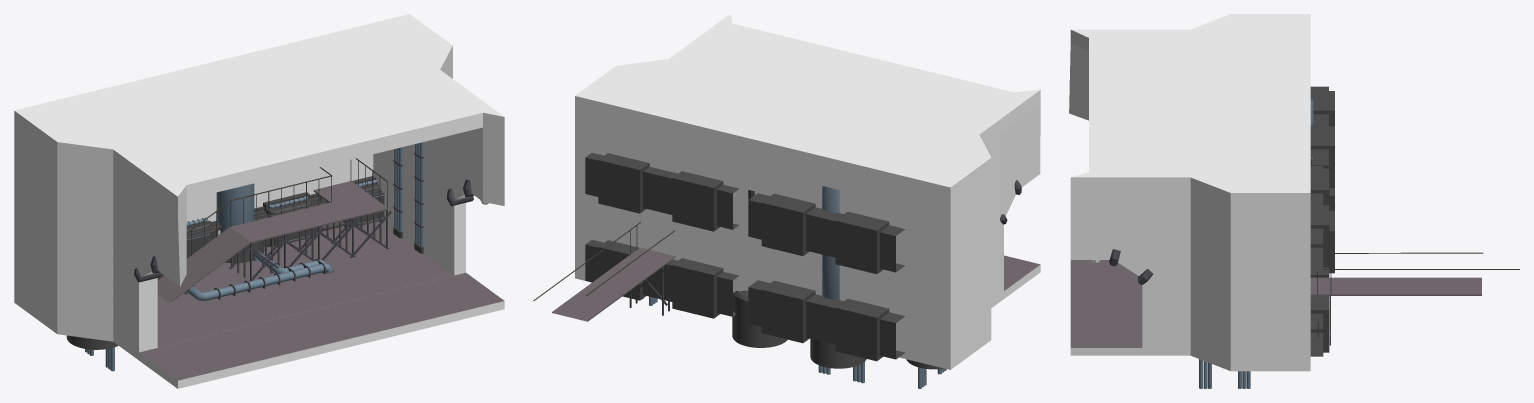
Rendered from Hub2.fbx.
The picture shows the model from 3 angles, left to right: view 1: azimuth 30°, elevation 25°; view 2: azimuth 150°, elevation 25°; view 3: azimuth 270°, elevation 25°; orthographic projection. The views are drawn at different scales.
Parts seen in each view (by area): view 1: Cube.002, Cube.034, Cube.025, Cylinder.013, Cylinder.028, Cylinder.023, Cube.033, Cube.016, Cube.006, Cylinder.033, Cylinder.004; view 2: Cube.002, Cube.006, Cube.025, Cube.034, Cylinder.029, Cylinder.026, Cylinder.027; view 3: Cube.002, Cube.025, Cube.034, Cube.006, Cylinder.013, Cylinder.015.
Part boxes in pixels (x1,y1,x2,y2): Cube.002: (14,14,504,388); Cube.034: (157,181,388,302); Cube.025: (254,176,384,246); Cylinder.013: (394,142,423,247); Cylinder.028: (216,183,254,233); Cylinder.023: (186,263,332,300); Cube.033: (231,210,387,280); Cube.016: (229,211,391,268); Cube.006: (186,220,221,258); Cylinder.033: (191,160,387,255); Cylinder.004: (66,335,118,349); Cube.002: (575,14,1040,369); Cube.006: (748,193,905,361); Cube.025: (585,152,739,318); Cube.034: (552,247,675,321); Cylinder.029: (732,290,787,347); Cylinder.026: (822,186,839,299); Cylinder.027: (810,338,866,368); Cube.002: (1069,14,1310,371); Cube.025: (1310,166,1329,356); Cube.034: (1310,277,1481,295); Cube.006: (1310,86,1334,273); Cylinder.013: (1199,359,1250,388); Cylinder.015: (1323,252,1519,269).
Bounding box in the file's own units: 10389 × 5998 × 11061.
